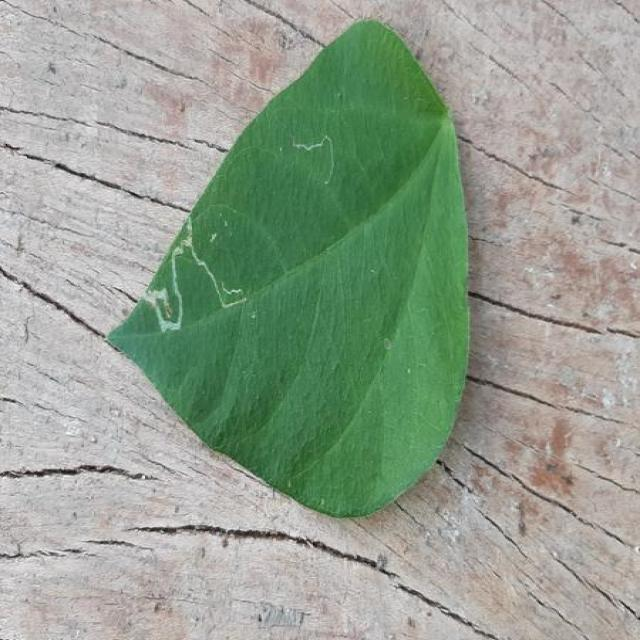beans: (108, 21, 470, 517)
defectedbeans: (110, 102, 303, 409)
